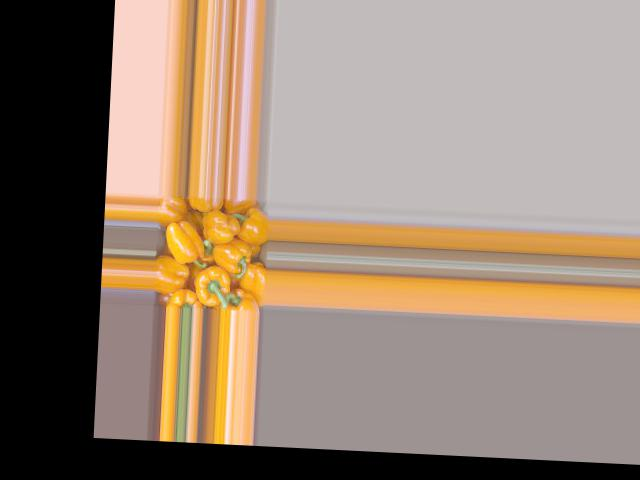bell_pepper: (215, 197, 259, 223)
